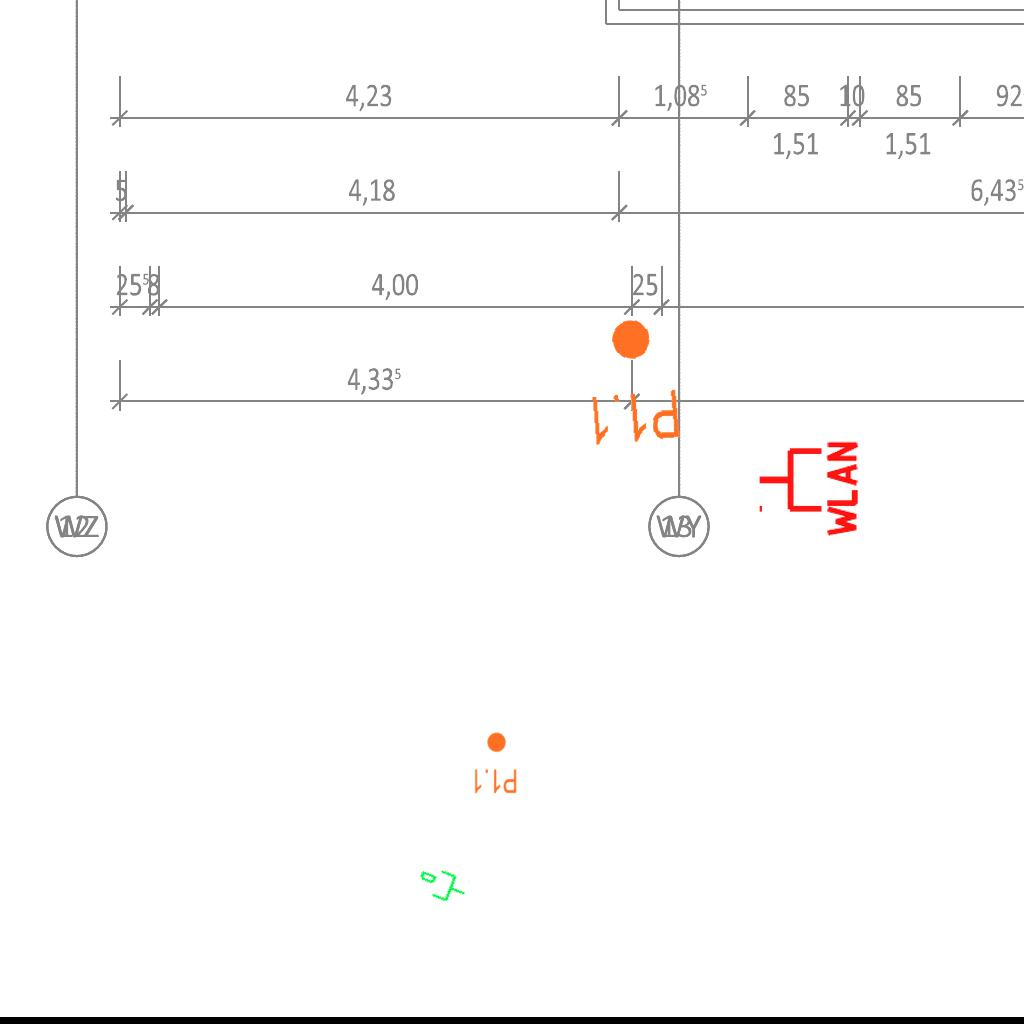Datenanschluss_einfach: (412, 861, 472, 911)
Downlight_LED_Einbauleuchten_Flur: (579, 313, 684, 449), (472, 731, 518, 795)
WLAN: (755, 437, 860, 541)
